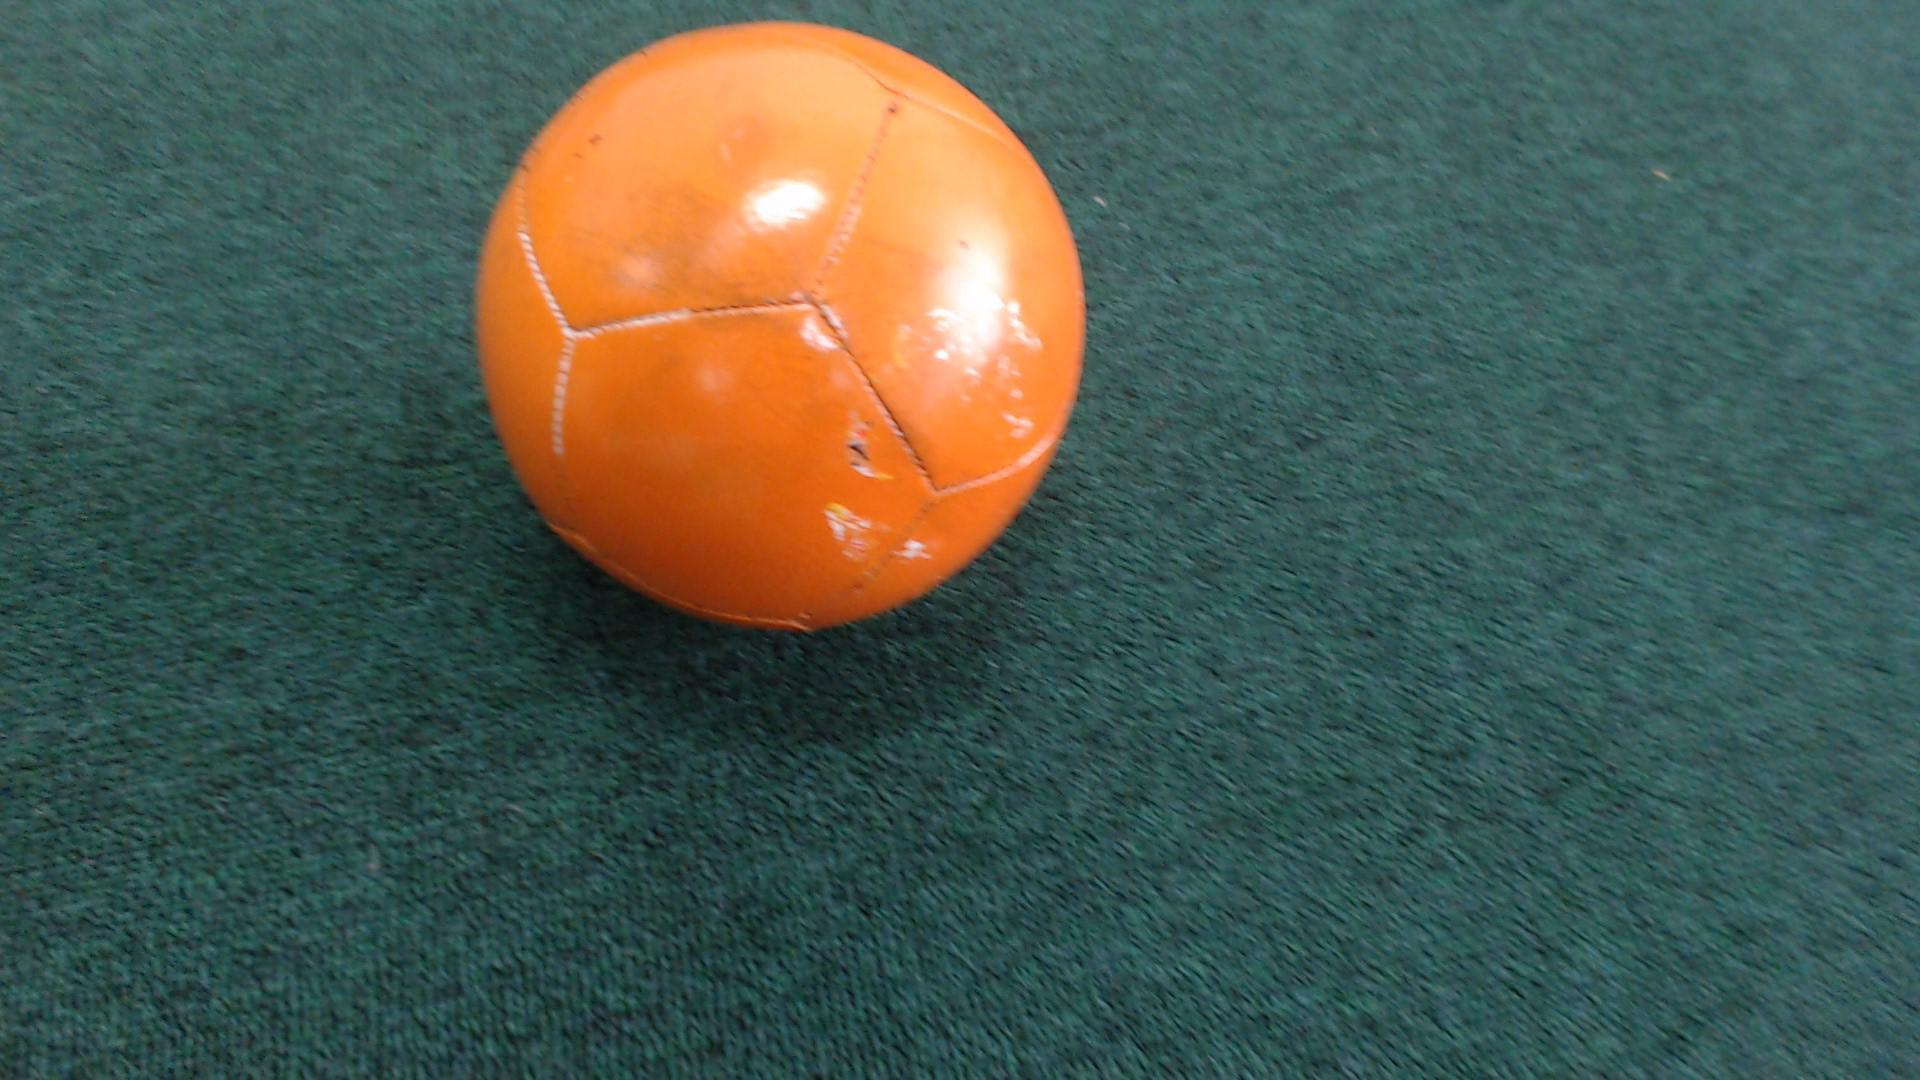bola: (434, 0, 1134, 694)
